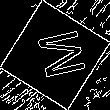M_W: (25, 27, 85, 83)
